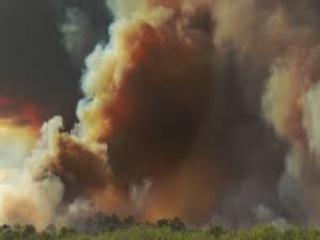smoke: (15, 15, 161, 224), (224, 4, 317, 211)
